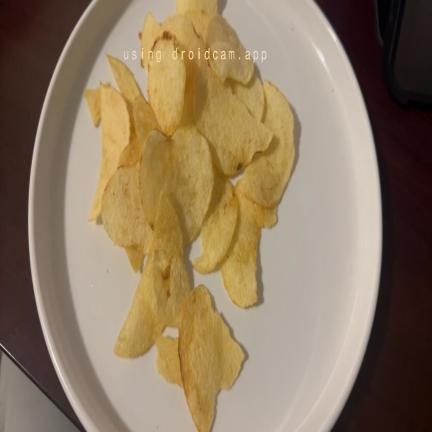chips: (85, 0, 294, 431), (115, 198, 190, 357), (179, 286, 244, 431), (141, 126, 213, 245), (194, 66, 272, 175), (237, 81, 294, 207), (221, 194, 276, 307), (89, 86, 130, 220), (150, 197, 190, 327), (115, 254, 163, 358), (172, 127, 213, 245), (162, 14, 205, 125), (194, 171, 238, 273), (102, 165, 151, 253), (148, 32, 185, 135), (206, 15, 253, 84), (162, 14, 205, 88), (140, 130, 173, 226), (119, 96, 158, 166), (150, 197, 182, 257), (226, 75, 265, 121), (107, 56, 141, 106), (133, 96, 158, 150), (156, 336, 182, 387), (142, 12, 160, 68), (119, 133, 142, 167), (185, 11, 210, 41), (84, 87, 101, 126), (177, 0, 217, 15), (125, 246, 144, 272)
plate: (29, 0, 195, 431)
